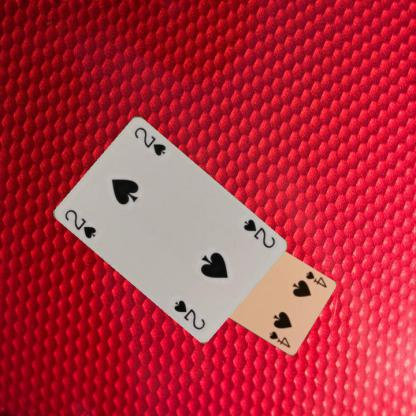2s: (240, 216, 276, 250), (61, 207, 98, 240)
4s: (302, 269, 327, 289)
